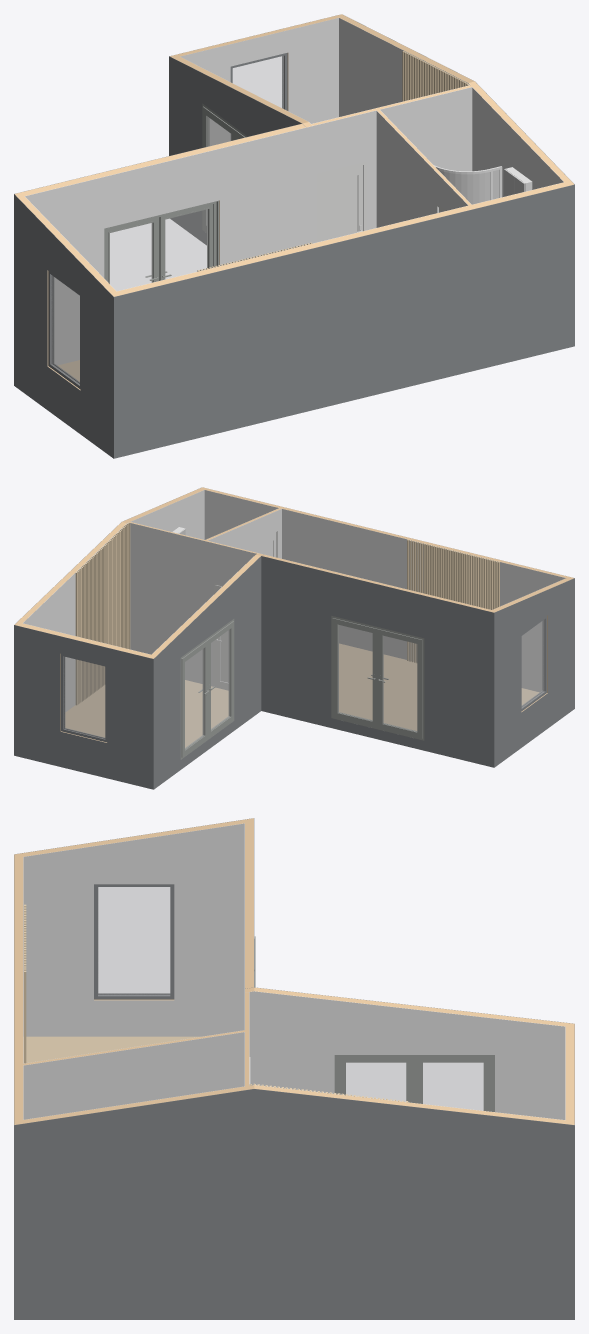
The model's file is Airija_Quinlan_(7,0x8,0m)_R01.fbx.
3 renders of one model, top to bottom at view 1: azimuth 30°, elevation 25°; view 2: azimuth 150°, elevation 25°; view 3: azimuth 270°, elevation 25°, orthographic. The views are drawn at different scales.
Parts seen in each view (by area): view 1: IfcWall/Part:2410302, IfcWall/Part:2412014, IfcWall/Part:2410299, IfcWall/Part:2410304, IfcWall/Part:2410307, IfcDoor/WINDSOR Door Double Casement Signature:Double-Casem, IfcWall/Part:2446417, IfcWall/Part:2437334, IfcWall/Part:2437067, IfcWall/Part:2437598, IfcDoor/Interior door:800x2100mm (right sided):2437654, IfcWindow/Windows akrusta:1600x1000 (left sided):2373371 (+10 smaller); view 2: IfcWall/Part:2412015, IfcWall/Part:2410308, IfcWall/Part:2410301, IfcWall/Part:2446417, IfcWall/Part:2437068, IfcDoor/WINDSOR Door Double Casement Signature:Double-Casem, IfcWall/Part:2410299, IfcSlab/Part:2410310, IfcDoor/WINDSOR Door Double Casement Signature:Double-Caseme, IfcWall/Part:2410304, IfcWindow/Windows akrusta:1600x1000 (right sided):2374711, IfcWindow/Windows akrusta:1600x1000 (left sided):2373371 (+9 smaller); view 3: IfcWall/Part:2410305, IfcWall/Part:2410298, IfcWall/Part:2446416, IfcWall/Part:2437333, IfcWindow/Windows akrusta:1600x1000 (left sided):2373371, IfcDoor/WINDSOR Door Double Casement Signature:Double-Caseme, IfcWall/Part:2410303, IfcSlab/Part:2410310, IfcWall/Part:2410306, IfcDoor/Interior door:800x2100mm (left sided):2437741, IfcWall/Part:2412016, IfcWall/Part:2446418 (+2 smaller).
Boxes of the visible parts, <box> form: IfcWall/Part:2410302: <box>113,184,574,458</box>; IfcWall/Part:2412014: <box>25,127,306,365</box>; IfcWall/Part:2410299: <box>14,194,113,458</box>; IfcWall/Part:2410304: <box>339,18,563,197</box>; IfcWall/Part:2410307: <box>180,18,338,145</box>; IfcDoor/WINDSOR Door Double Casement Signature:Double-Casem: <box>104,200,218,290</box>; IfcWall/Part:2446417: <box>169,56,305,245</box>; IfcWall/Part:2437334: <box>376,111,468,227</box>; IfcWall/Part:2437067: <box>380,87,472,171</box>; IfcWall/Part:2437598: <box>306,110,376,244</box>; IfcDoor/Interior door:800x2100mm (right sided):2437654: <box>317,161,366,242</box>; IfcWindow/Windows akrusta:1600x1000 (left sided):2373371: <box>48,271,80,389</box>; IfcWall/Part:2412015: <box>261,556,493,767</box>; IfcWall/Part:2410308: <box>14,625,153,789</box>; IfcWall/Part:2410301: <box>204,490,565,692</box>; IfcWall/Part:2446417: <box>154,555,262,789</box>; IfcWall/Part:2437068: <box>130,523,256,686</box>; IfcDoor/WINDSOR Door Double Casement Signature:Double-Casem: <box>331,616,424,740</box>; IfcWall/Part:2410299: <box>494,578,574,767</box>; IfcSlab/Part:2410310: <box>65,643,539,747</box>; IfcDoor/WINDSOR Door Double Casement Signature:Double-Caseme: <box>180,619,234,759</box>; IfcWall/Part:2410304: <box>23,490,204,711</box>; IfcWindow/Windows akrusta:1600x1000 (right sided):2374711: <box>61,654,107,742</box>; IfcWindow/Windows akrusta:1600x1000 (left sided):2373371: <box>521,616,547,711</box>; IfcWall/Part:2410305: <box>14,1089,574,1319</box>; IfcWall/Part:2410298: <box>23,823,244,1036</box>; IfcWall/Part:2446416: <box>249,991,565,1119</box>; IfcWall/Part:2437333: <box>23,1032,244,1119</box>; IfcWindow/Windows akrusta:1600x1000 (left sided):2373371: <box>94,884,174,999</box>; IfcDoor/WINDSOR Door Double Casement Signature:Double-Caseme: <box>334,1055,494,1111</box>; IfcWall/Part:2410303: <box>14,853,23,1121</box>; IfcSlab/Part:2410310: <box>23,1036,200,1063</box>; IfcWall/Part:2410306: <box>14,1085,565,1124</box>; IfcDoor/Interior door:800x2100mm (left sided):2437741: <box>33,1090,102,1118</box>; IfcWall/Part:2412016: <box>245,822,253,988</box>; IfcWall/Part:2446418: <box>245,987,565,1026</box>.
Size of the model in its own units: 800 by 318 by 700.
